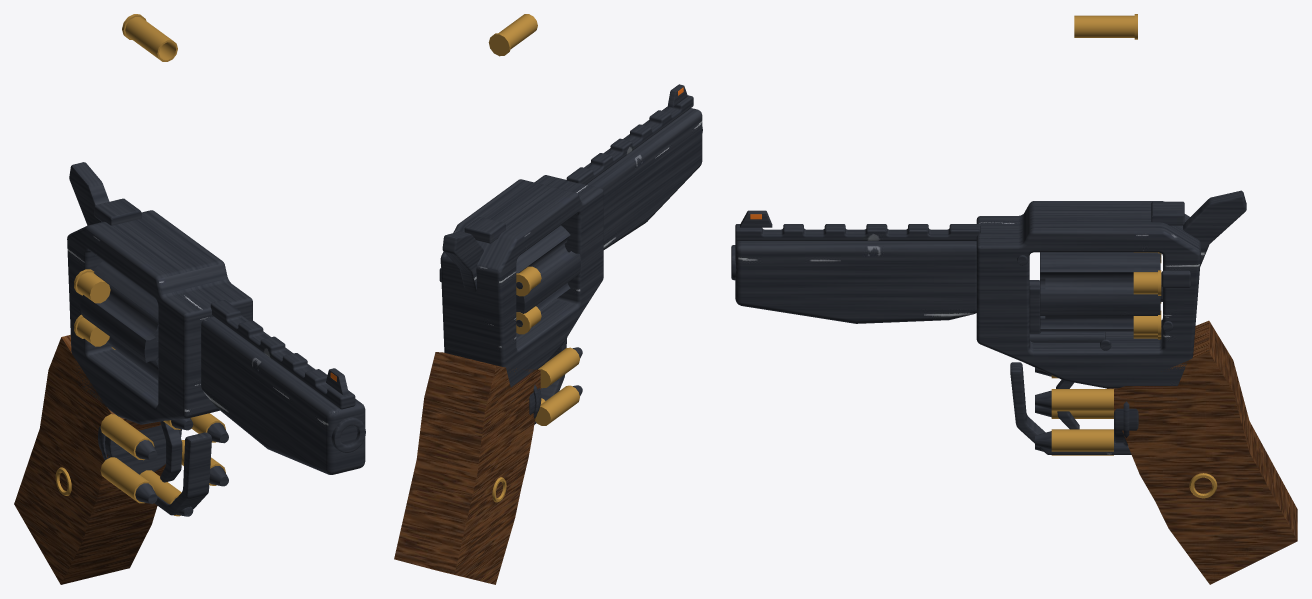
File: gun_revolver.glb
3 views of the same model, side by side, from view 1: azimuth 30°, elevation 25°; view 2: azimuth 150°, elevation 25°; view 3: azimuth 270°, elevation 25° (orthographic). The views are drawn at different scales.
Visible parts, largest first — view 1: gun_revolver, x_speedloader, cylinder, rounds, x_casing; view 2: gun_revolver, cylinder, x_speedloader, x_casing, rounds; view 3: gun_revolver, cylinder, x_speedloader, x_casing, crane, rounds.
Boxes of the visible parts, x1,y1,x2,y2 form: gun_revolver: (14, 162, 365, 584); x_speedloader: (98, 413, 228, 516); cylinder: (80, 261, 158, 380); rounds: (74, 269, 115, 349); x_casing: (122, 14, 177, 61); gun_revolver: (394, 84, 702, 584); cylinder: (516, 225, 580, 313); x_speedloader: (529, 347, 582, 425); x_casing: (488, 14, 537, 56); rounds: (516, 266, 541, 334); gun_revolver: (731, 190, 1297, 584); cylinder: (1040, 252, 1162, 331); x_speedloader: (1035, 367, 1138, 455); x_casing: (1074, 14, 1137, 39); crane: (1029, 280, 1105, 342); rounds: (1133, 252, 1161, 339).
Size of the model in its own units: 0.0493 by 0.2939 by 0.2724.
4 materials, 2 textured.
